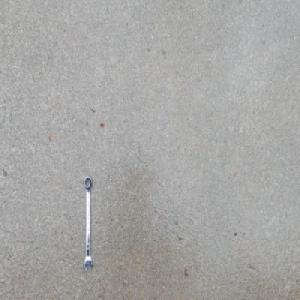Wrench: (83, 173, 93, 273)
